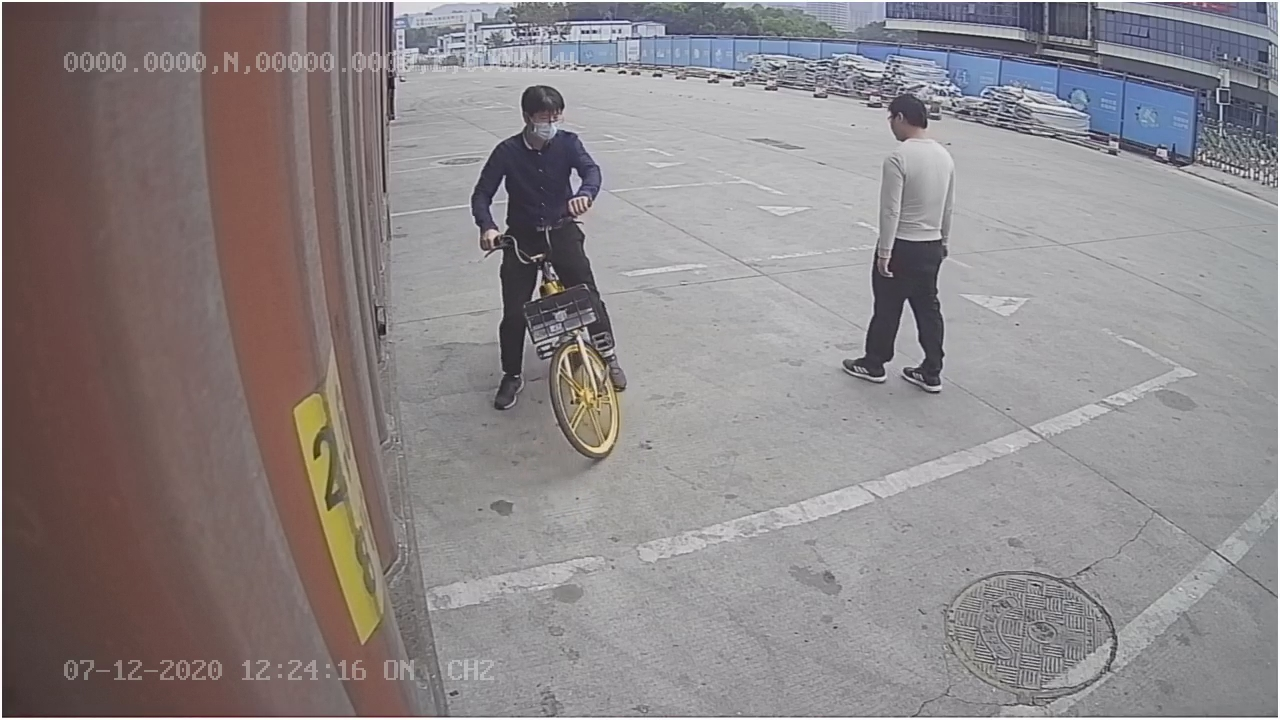person: (836, 89, 964, 399)
